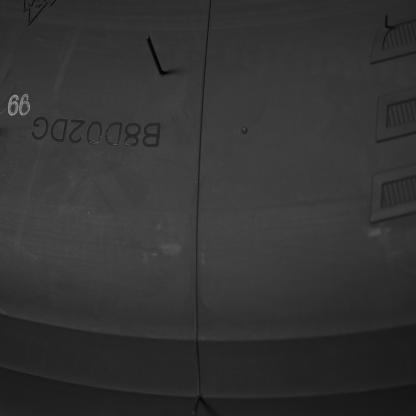ocr: (31, 114, 162, 150)
